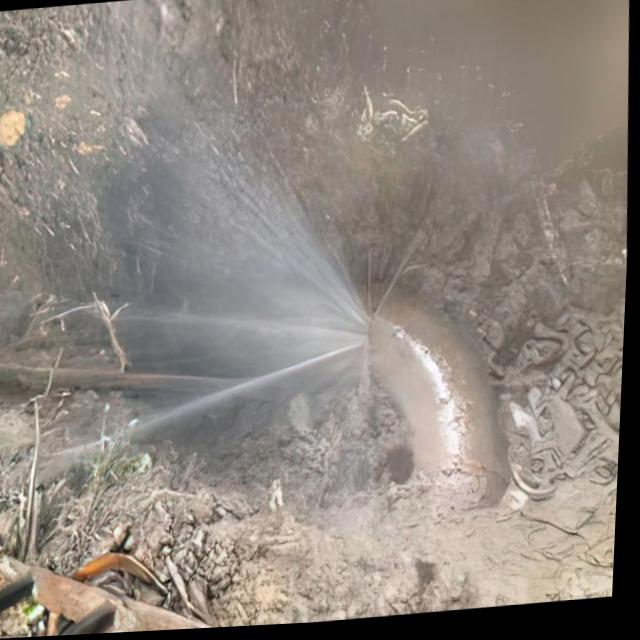leak: (102, 104, 369, 435)
